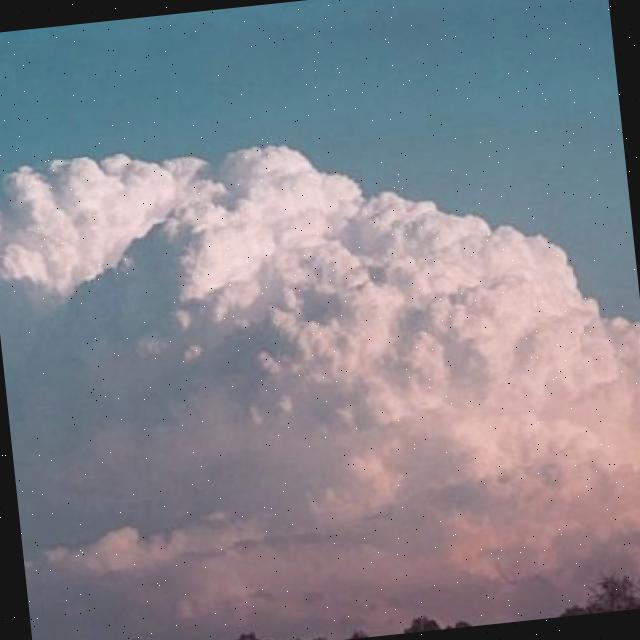Cb: (1, 88, 640, 607)
